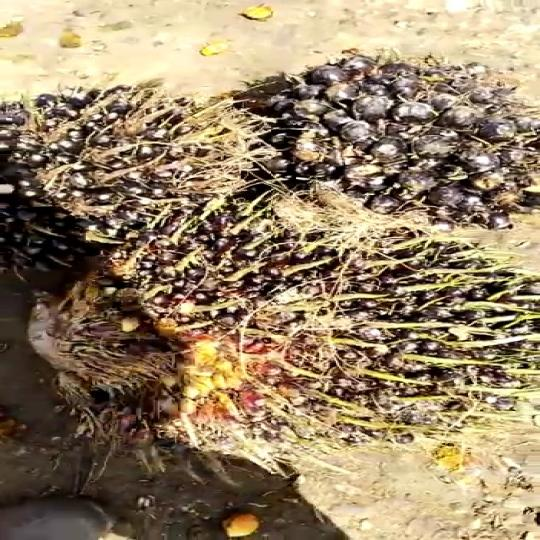mentah: (29, 217, 538, 466), (240, 53, 540, 233), (0, 71, 193, 300)
